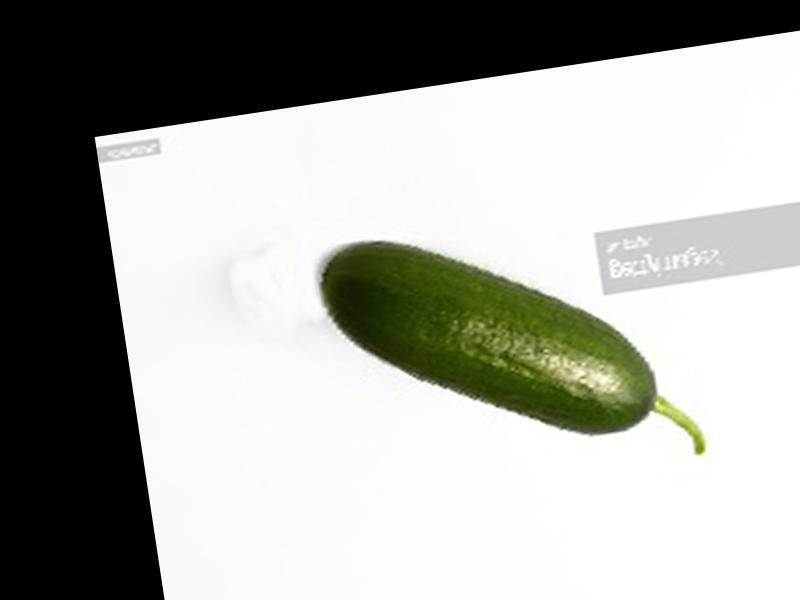Cucumber: (318, 193, 712, 503)
